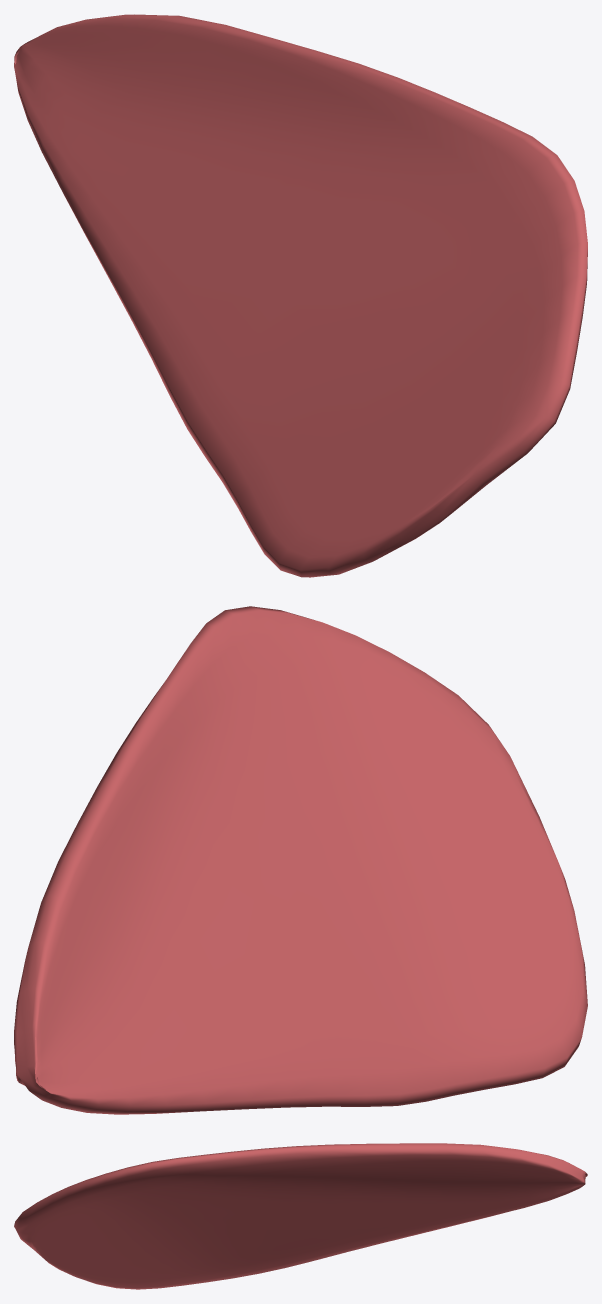
The picture shows the model from 3 angles, top to bottom: view 1: azimuth 30°, elevation 25°; view 2: azimuth 150°, elevation 25°; view 3: azimuth 270°, elevation 25°; orthographic projection. The views are drawn at different scales.
Parts seen in each view (by area): view 1: 右侧缝匠肌腱下囊; view 2: 右侧缝匠肌腱下囊; view 3: 右侧缝匠肌腱下囊.
Part boxes in pixels (box(x1,y1,x2,y2)): 右侧缝匠肌腱下囊: box(14, 14, 587, 577); 右侧缝匠肌腱下囊: box(14, 606, 587, 1114); 右侧缝匠肌腱下囊: box(14, 1143, 587, 1289).
Size of the model in its own units: 0.0202 by 0.023 by 0.056.
